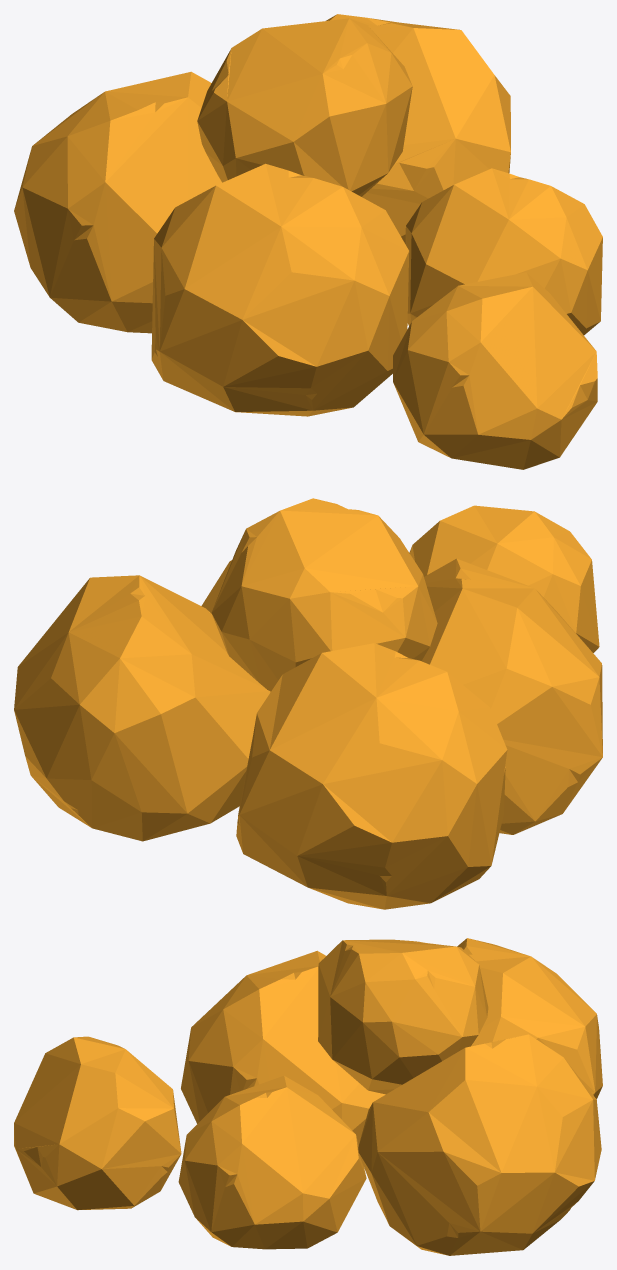
Rendered from SM_Catapult_Ammo_Stone_Pile.fbx.
3 renders of one model, top to bottom at view 1: azimuth 30°, elevation 25°; view 2: azimuth 150°, elevation 25°; view 3: azimuth 270°, elevation 25°, orthographic. The views are drawn at different scales.
Parts seen in each view (by area): view 1: catapult-ammo-stone-pile; view 2: catapult-ammo-stone-pile; view 3: catapult-ammo-stone-pile.
Part boxes in pixels (x1,y1,x2,y2): catapult-ammo-stone-pile: (14, 14, 602, 469); catapult-ammo-stone-pile: (14, 498, 602, 909); catapult-ammo-stone-pile: (14, 938, 602, 1255).
Bounding box in the file's own units: 1.03 × 0.6651 × 1.32.
